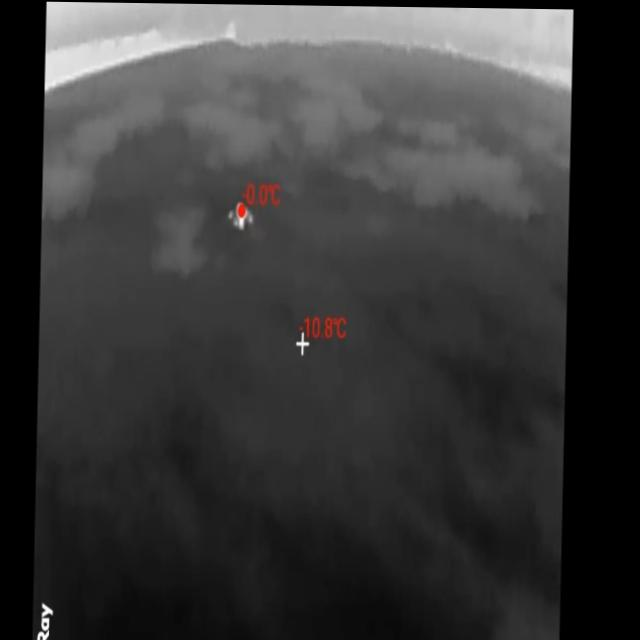drone: (226, 195, 254, 233)
